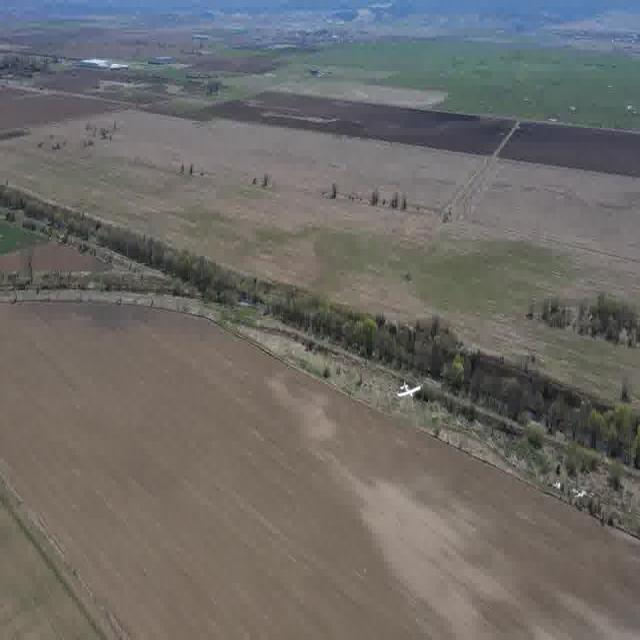iha: (393, 369, 428, 404)
